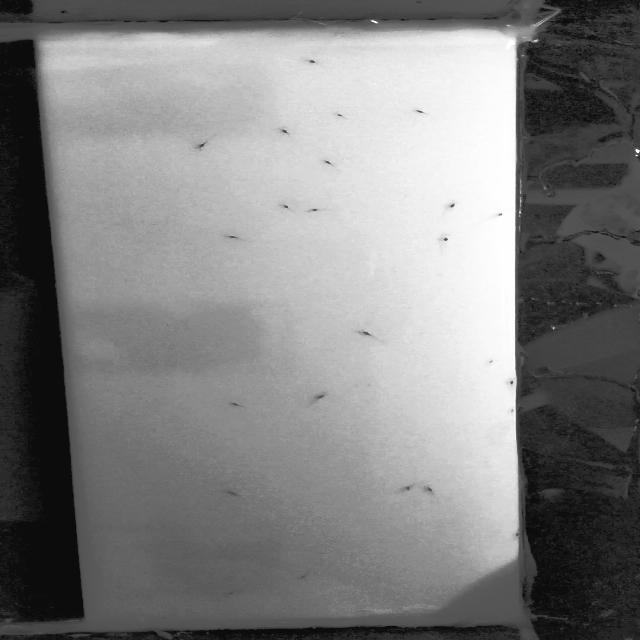shrimp: (195, 130, 221, 150), (350, 328, 387, 342), (216, 586, 252, 600), (302, 389, 326, 408), (296, 205, 337, 216), (222, 233, 252, 247), (291, 570, 320, 584), (216, 487, 246, 500), (402, 480, 422, 497), (408, 106, 437, 117), (307, 58, 331, 70), (278, 204, 300, 217), (420, 483, 439, 497), (151, 614, 177, 624), (331, 111, 351, 124), (442, 198, 460, 212), (227, 400, 252, 410), (482, 355, 501, 368), (318, 159, 341, 169), (437, 232, 455, 244), (491, 210, 509, 220), (279, 125, 295, 136), (504, 374, 516, 386), (514, 532, 525, 540)
